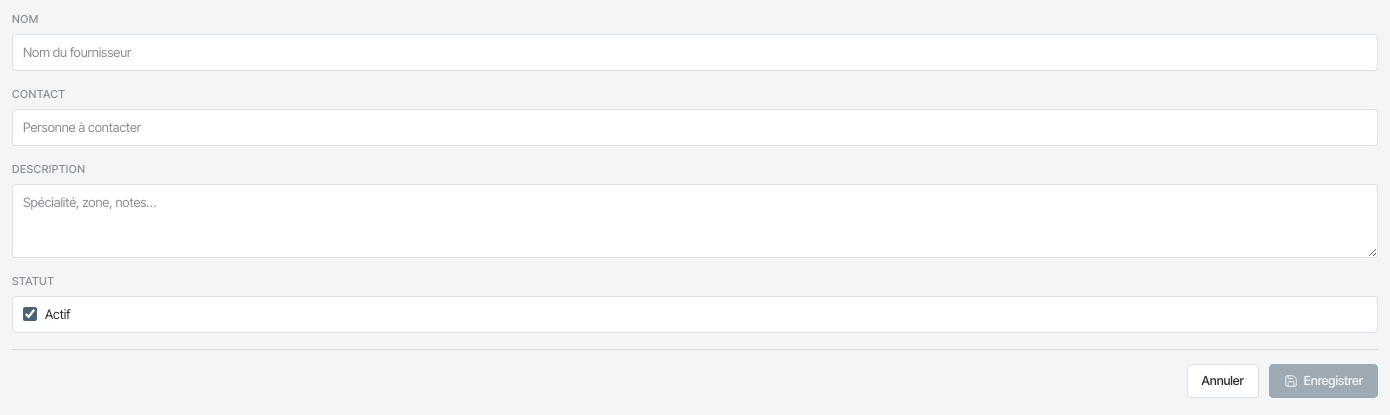
Test: ErpSupplierForm › désactive Enregistrer tant que le nom est vide
Check: the submit button is disabled, box [1269,364,1378,398]
In the field named "name": (695, 52) [12,34,1378,71], type "Mareyeur Sète"
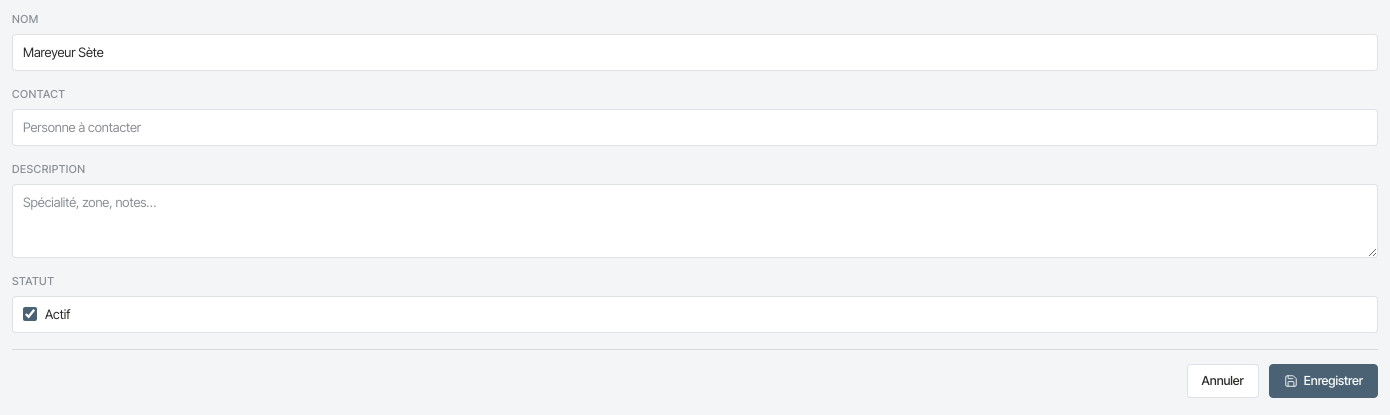
Check: the submit button is enabled, box [1269,364,1378,398]
